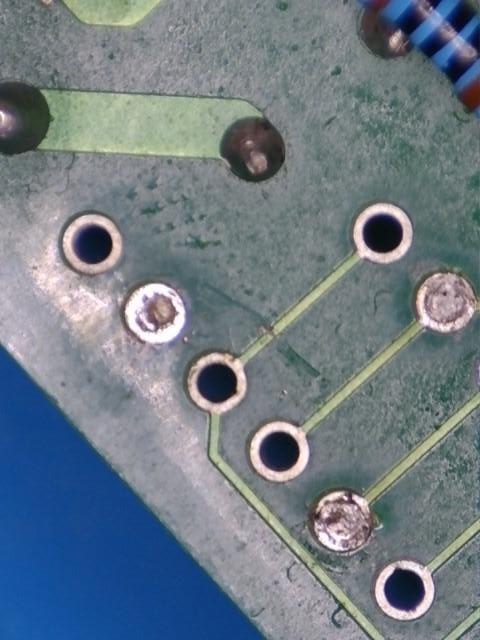pcb_defect: (125, 284, 185, 343), (315, 490, 372, 551), (417, 272, 474, 332)
